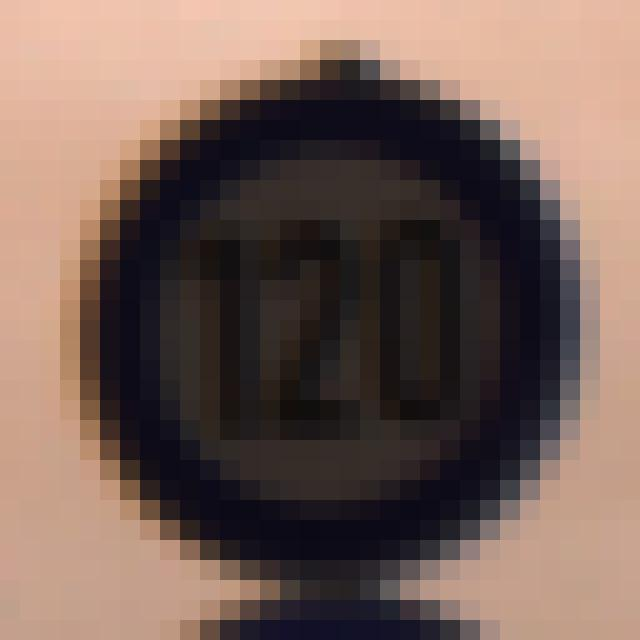SPEED LIMIT 120: (79, 77, 576, 559)
